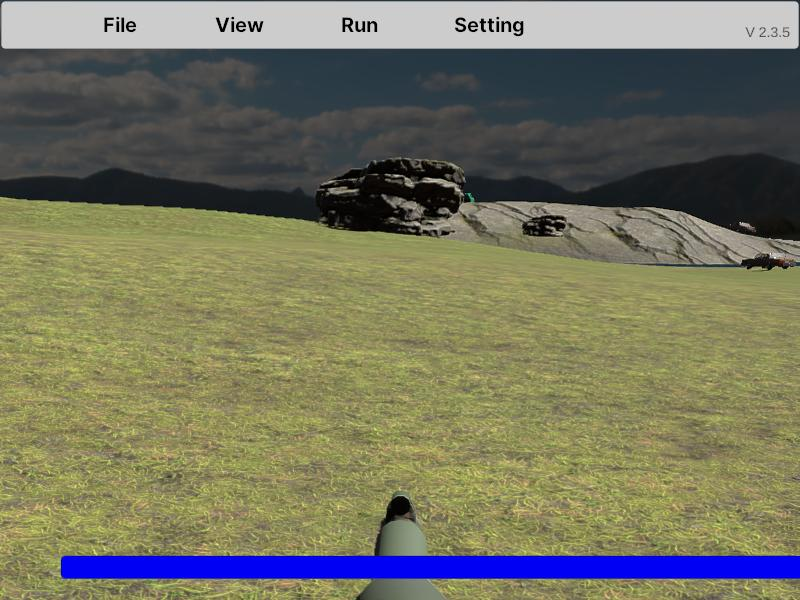car: (740, 252, 796, 271)
